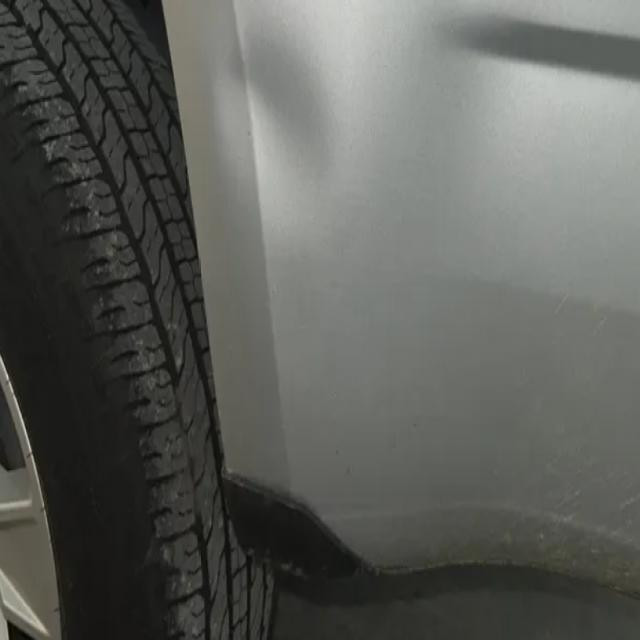dents: (214, 36, 347, 242)
